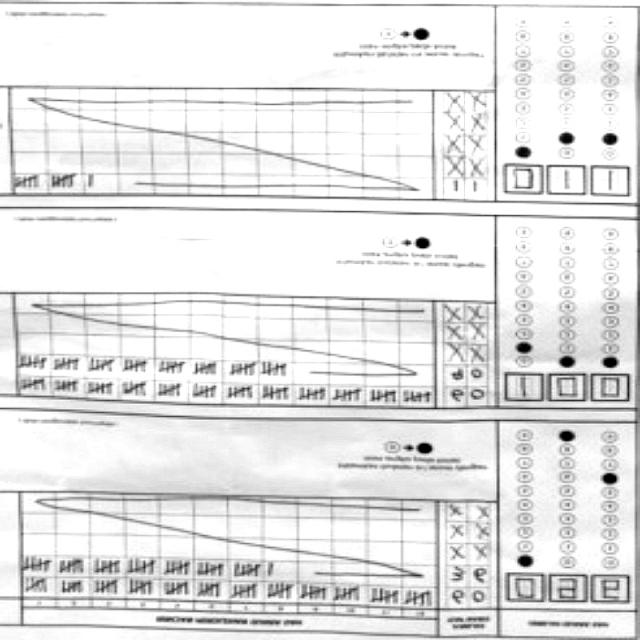Suara: (499, 568, 635, 610), (496, 367, 632, 409), (498, 162, 634, 203)
